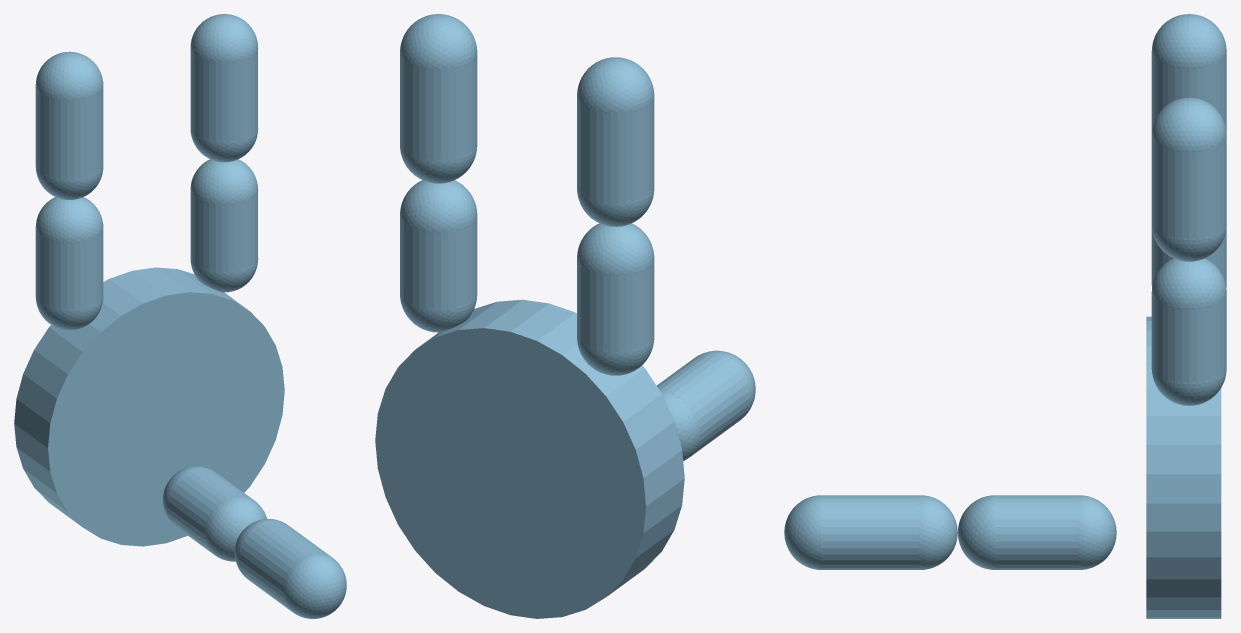
File: dex3_left_canonical.glb
3 renders of one model, left to right at view 1: azimuth 30°, elevation 25°; view 2: azimuth 150°, elevation 25°; view 3: azimuth 270°, elevation 25°, orthographic. The views are drawn at different scales.
Visible parts, largest first — view 1: world; view 2: world; view 3: world.
Boxes of the visible parts, left/top/right/bottom form: world: left=14, top=14, right=346, bottom=618; world: left=375, top=14, right=755, bottom=618; world: left=784, top=14, right=1226, bottom=618.
Bounding box in the file's own units: 0.0872 × 0.1735 × 0.1275.
